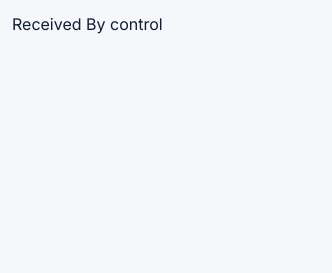
PaymentForm locked-field tooltips › shows the unlock explanation for the {"field":"Received By","note":"Receiver name is locked together with the rest of the metadata until the cash-invariant bloc
The image size is (332, 273).
Focus the element showing "Received By control". click: (87, 24)
box: [12,12,163,36]
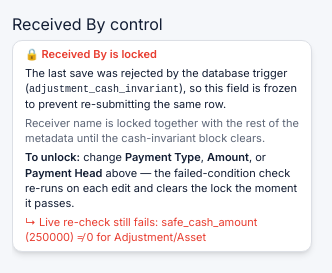
Check: the text "adjustment_cash_invariant" is shown, box [29,84,179,95]
Check: the text "rejected by the database trigger" is shown, box [25,66,287,95]
Check: the text "Receiver name is locked together with the rest of the metadata until the cash-invariant block clears." is shown, box [25,116,299,145]
